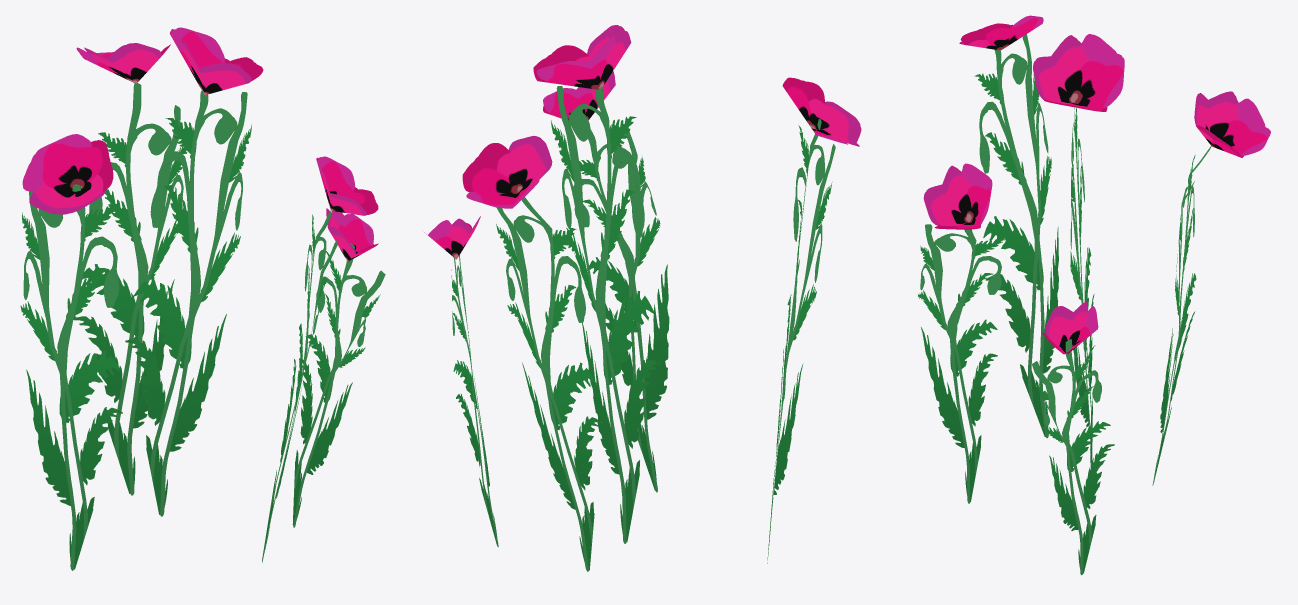
Rendered from flowerPink.fbx.
The picture shows the model from 3 angles, left to right: view 1: azimuth 30°, elevation 25°; view 2: azimuth 150°, elevation 25°; view 3: azimuth 270°, elevation 25°; orthographic projection. The views are drawn at different scales.
Visible parts, largest first — view 1: PT_Poppy_02_Pink; view 2: PT_Poppy_02_Pink; view 3: PT_Poppy_02_Pink.
Boxes of the visible parts, box(x1,y1,x2,y2) form: PT_Poppy_02_Pink: box(20, 27, 385, 570); PT_Poppy_02_Pink: box(424, 25, 861, 571); PT_Poppy_02_Pink: box(918, 15, 1270, 575).
Size of the model in its own units: 63.17 by 81.91 by 54.09.
